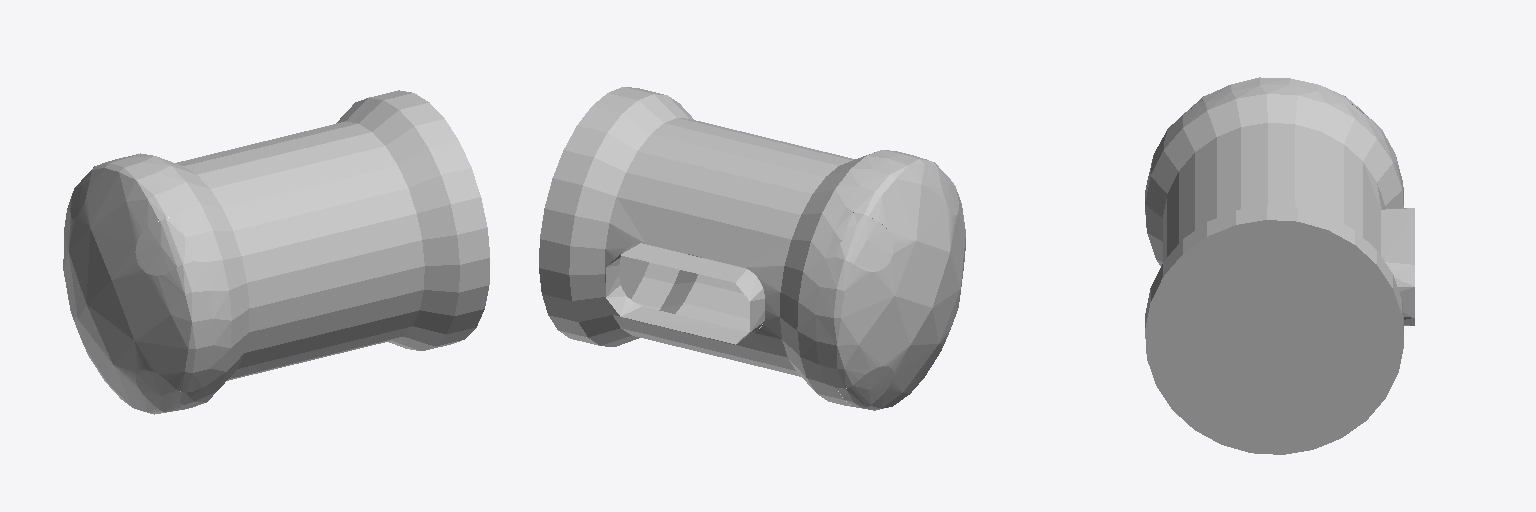
The model's file is right_light.obj.
The picture shows the model from 3 angles: view 1: azimuth 30°, elevation 25°; view 2: azimuth 150°, elevation 25°; view 3: azimuth 270°, elevation 25°; orthographic projection.
Bounding box in the file's own units: 0.0549 × 0.0369 × 0.0385.